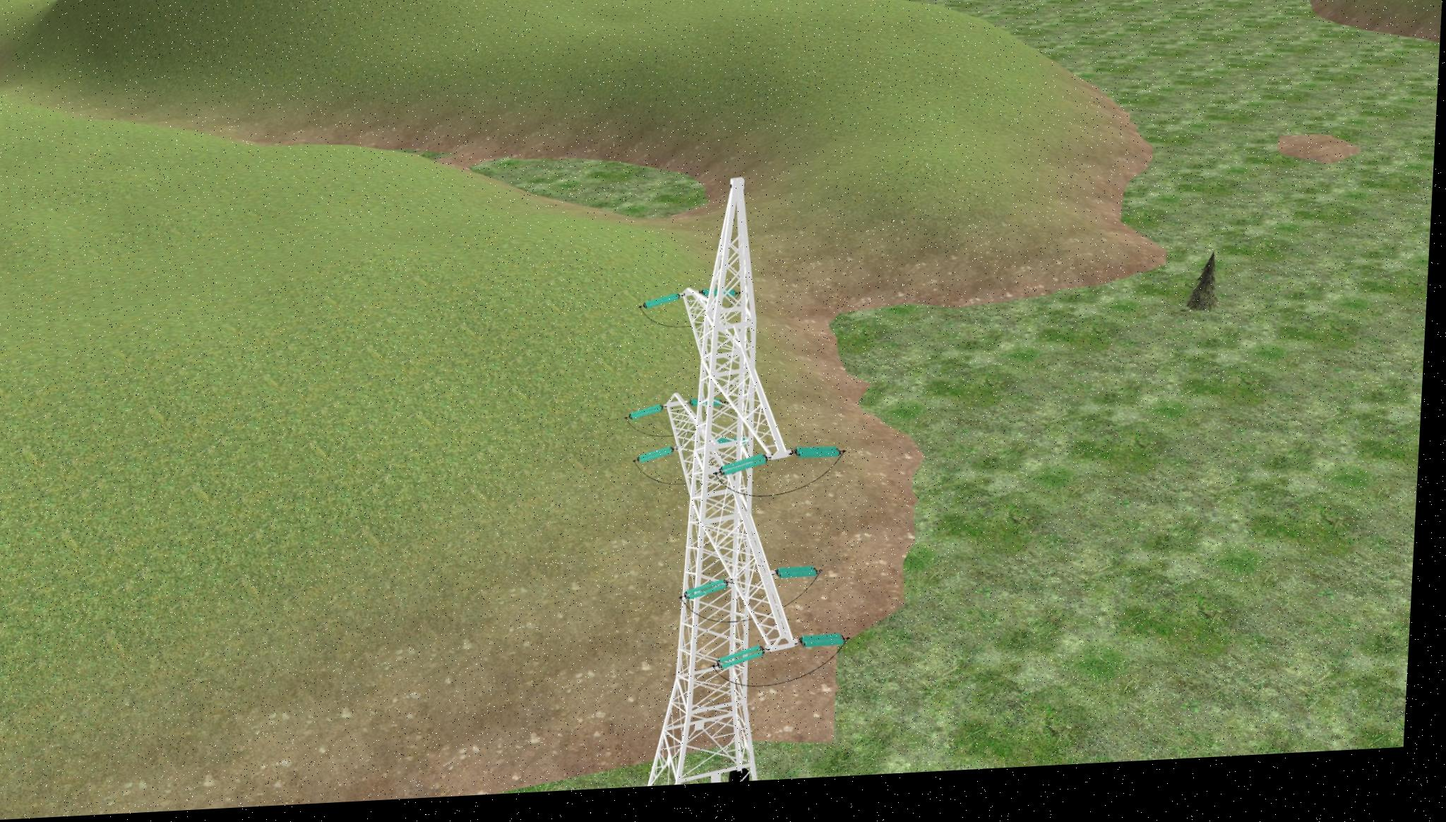tower: (644, 171, 823, 786)
